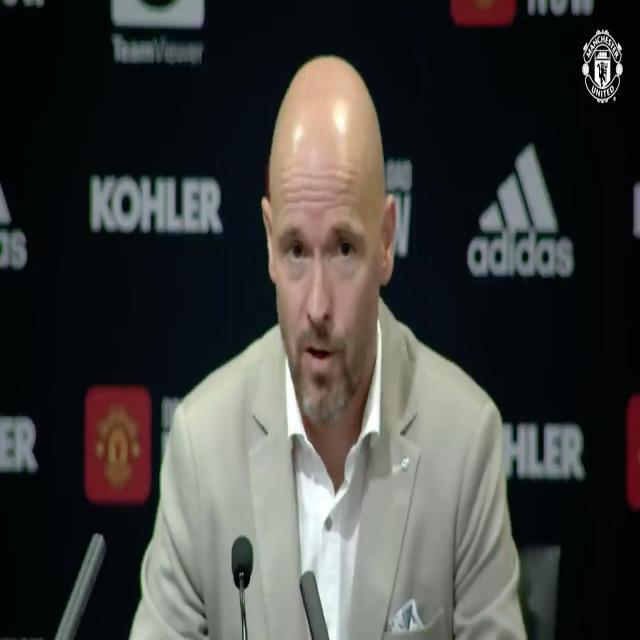Adidas: (466, 141, 574, 278)
Kohler: (91, 176, 220, 235)
TeamViewer: (112, 0, 205, 62)
